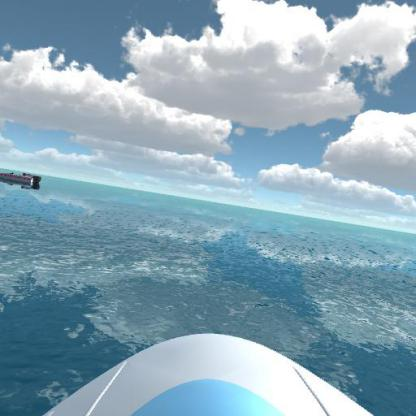usv3: (0, 165, 48, 195)
